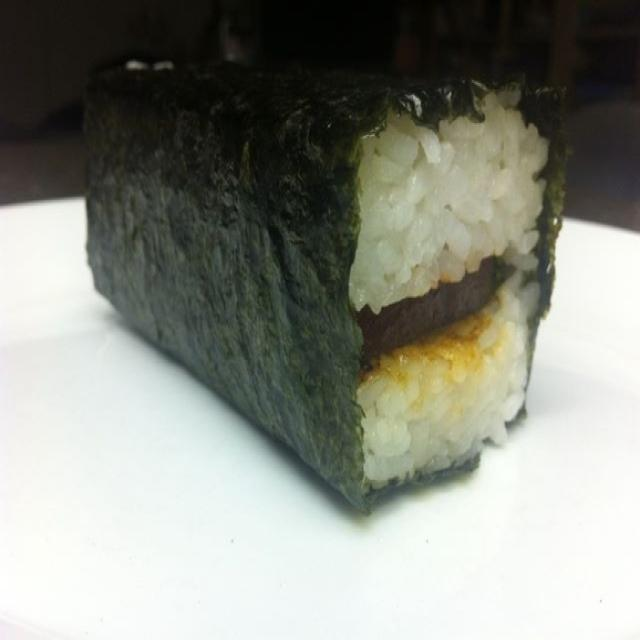寿司卷物: (6, 2, 634, 631)
